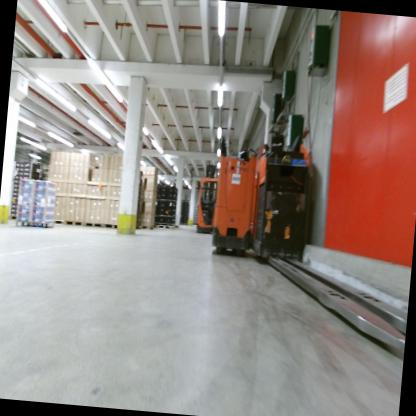forklift: (192, 159, 223, 236)
pallet: (64, 218, 84, 228), (158, 222, 177, 231), (51, 216, 65, 226), (104, 221, 121, 229), (83, 222, 105, 228), (6, 213, 20, 222), (138, 224, 154, 231), (152, 223, 158, 232), (180, 222, 188, 227), (174, 223, 179, 228)
pallet_truck: (243, 129, 416, 361), (209, 129, 263, 258)
